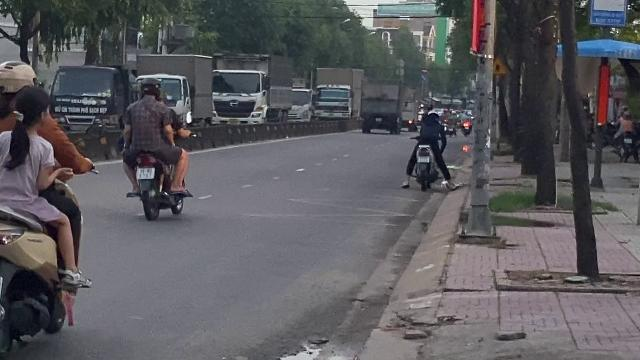helmet: (0, 60, 38, 96), (135, 75, 161, 99)
licenseplate: (136, 168, 154, 178)
motorcyclist: (0, 57, 96, 357), (119, 75, 191, 221)
nohelmet: (11, 85, 52, 127)
